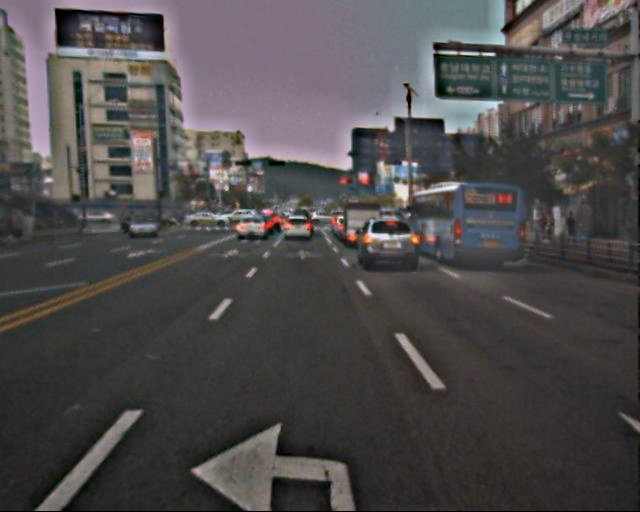person: (563, 211, 580, 252), (535, 212, 555, 242)
